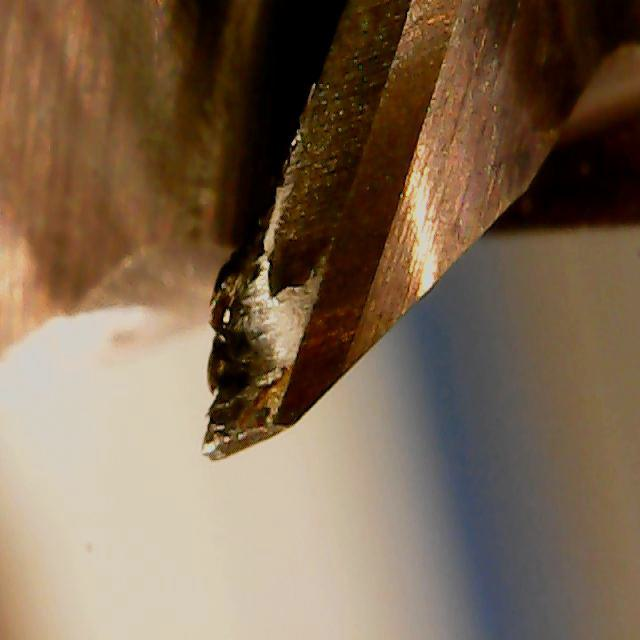Tool-wear-class-3: (196, 255, 380, 490)
